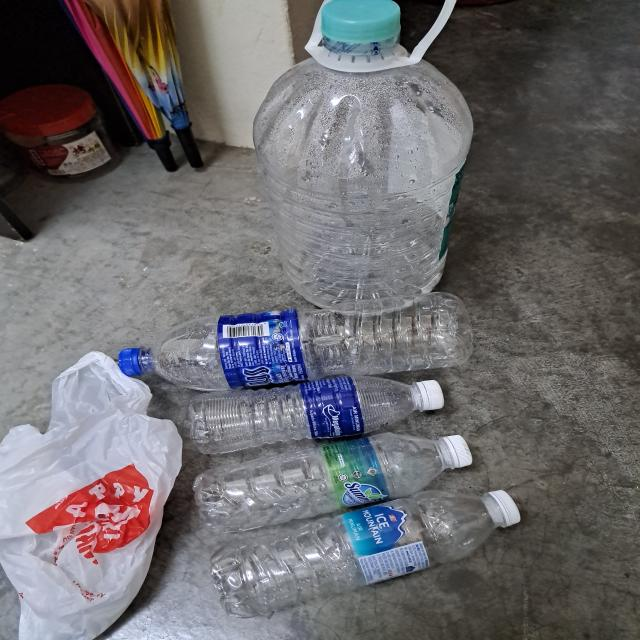plastic bag: (0, 351, 183, 640)
plastic bottle: (253, 45, 474, 315), (211, 492, 500, 620), (145, 293, 478, 392), (194, 433, 448, 536), (186, 374, 422, 456)
plastic bottle cap: (322, 0, 400, 45), (488, 490, 520, 528), (441, 434, 473, 468), (420, 379, 444, 412), (119, 348, 140, 377)
